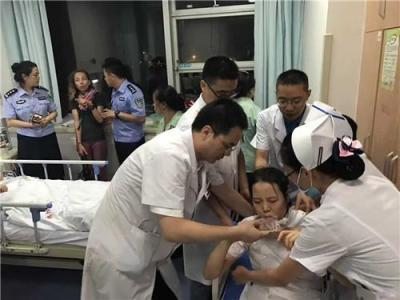Fall-Detected: (212, 166, 314, 298)
